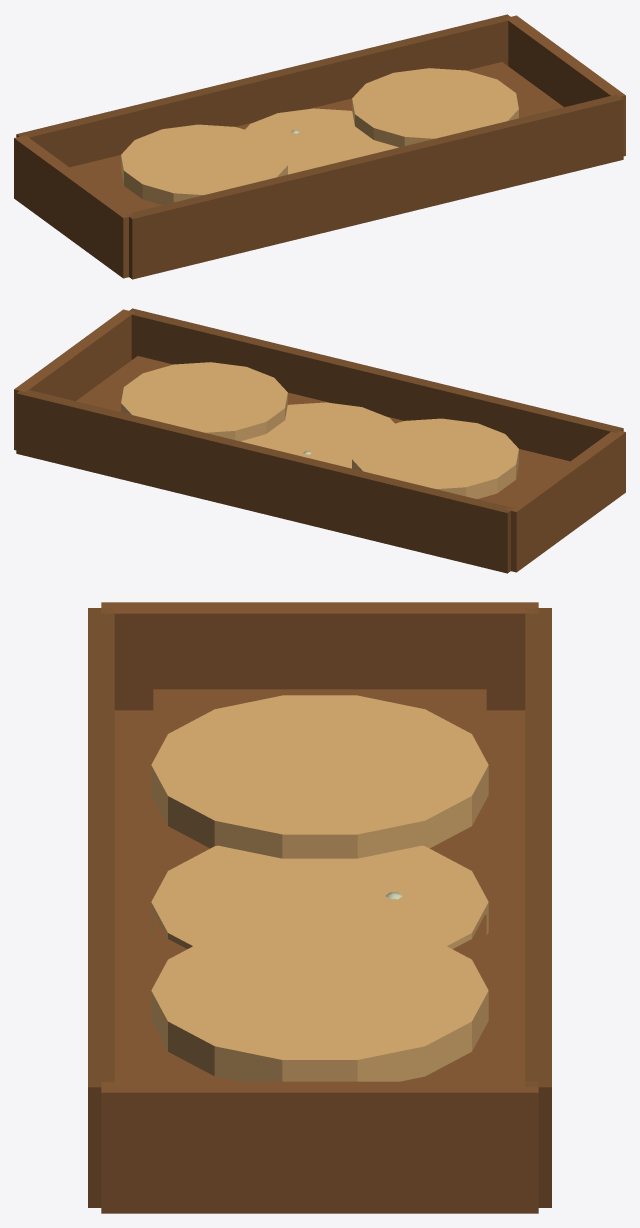
The model's file is Bread_Flat.fbx.
3 views of the same model, one above another, from view 1: azimuth 30°, elevation 25°; view 2: azimuth 150°, elevation 25°; view 3: azimuth 270°, elevation 25° (orthographic). The views are drawn at different scales.
Parts seen in each view (by area): view 1: Bread_Flat__Stack, Bread_Flat; view 2: Bread_Flat__Stack, Bread_Flat; view 3: Bread_Flat__Stack, Bread_Flat.
Boxes of the visible parts, x1,y1,x2,y2 form: Bread_Flat__Stack: (14,14,625,279); Bread_Flat: (245,108,398,174); Bread_Flat__Stack: (14,308,625,573); Bread_Flat: (241,402,394,468); Bread_Flat__Stack: (88,602,551,1213); Bread_Flat: (151,845,488,948).
Bounding box in the file's own units: 0.348 × 0.04 × 0.1392.
